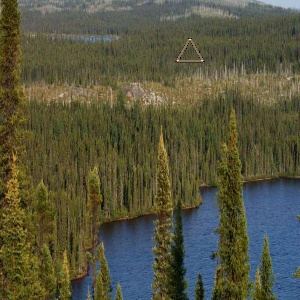triangle: (173, 34, 206, 64)
